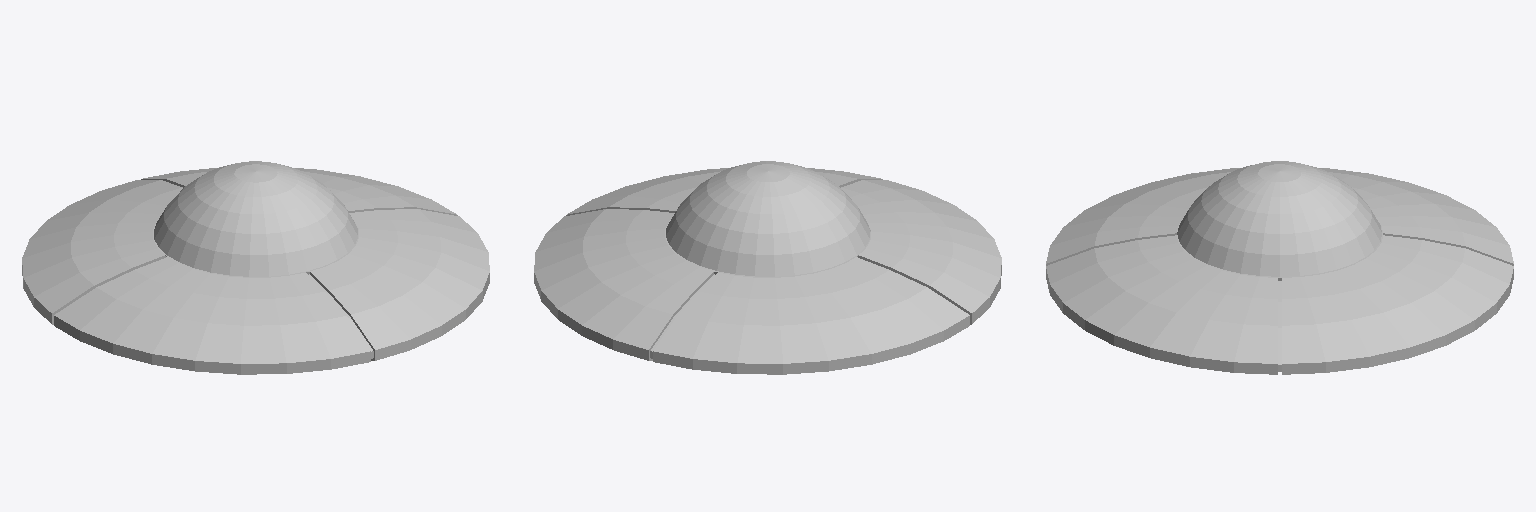
The model's file is alieno2.obj.
3 renders of one model, left to right at view 1: azimuth 30°, elevation 25°; view 2: azimuth 150°, elevation 25°; view 3: azimuth 270°, elevation 25°, orthographic.
Visible parts, largest first — view 1: UFO_body, UFO_cockpit; view 2: UFO_body, UFO_cockpit; view 3: UFO_body, UFO_cockpit.
Boxes of the visible parts, box(x1,y1,x2,y2) form: UFO_body: box(22, 167, 489, 374); UFO_cockpit: box(154, 161, 357, 276); UFO_body: box(534, 168, 1001, 374); UFO_cockpit: box(666, 161, 870, 276); UFO_body: box(1046, 168, 1513, 374); UFO_cockpit: box(1177, 161, 1381, 276).
Bounding box in the file's own units: 6.79 × 2.7 × 6.79.